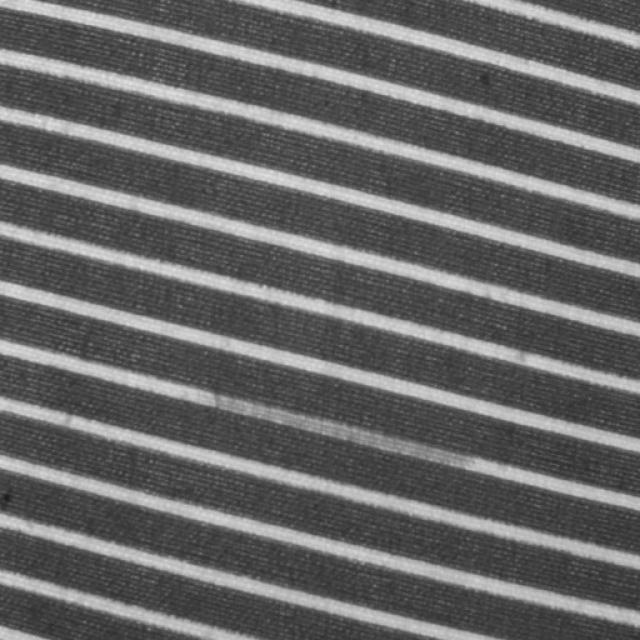Stain-Defect: (209, 392, 498, 475)
